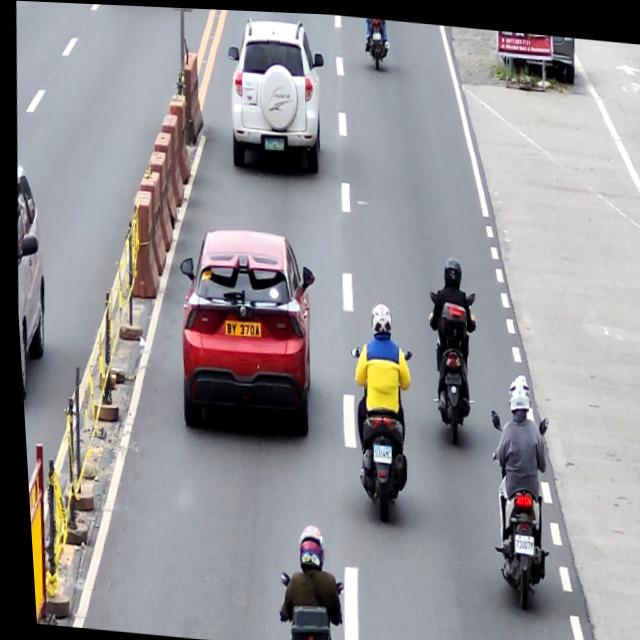Car: (165, 222, 320, 439), (220, 14, 330, 176)
License-Plate: (220, 316, 258, 337), (507, 529, 529, 552), (367, 441, 388, 462), (261, 133, 284, 150), (372, 28, 382, 37)
Motorcycle: (476, 403, 552, 608), (337, 341, 417, 521), (418, 286, 478, 443), (362, 15, 389, 67)
